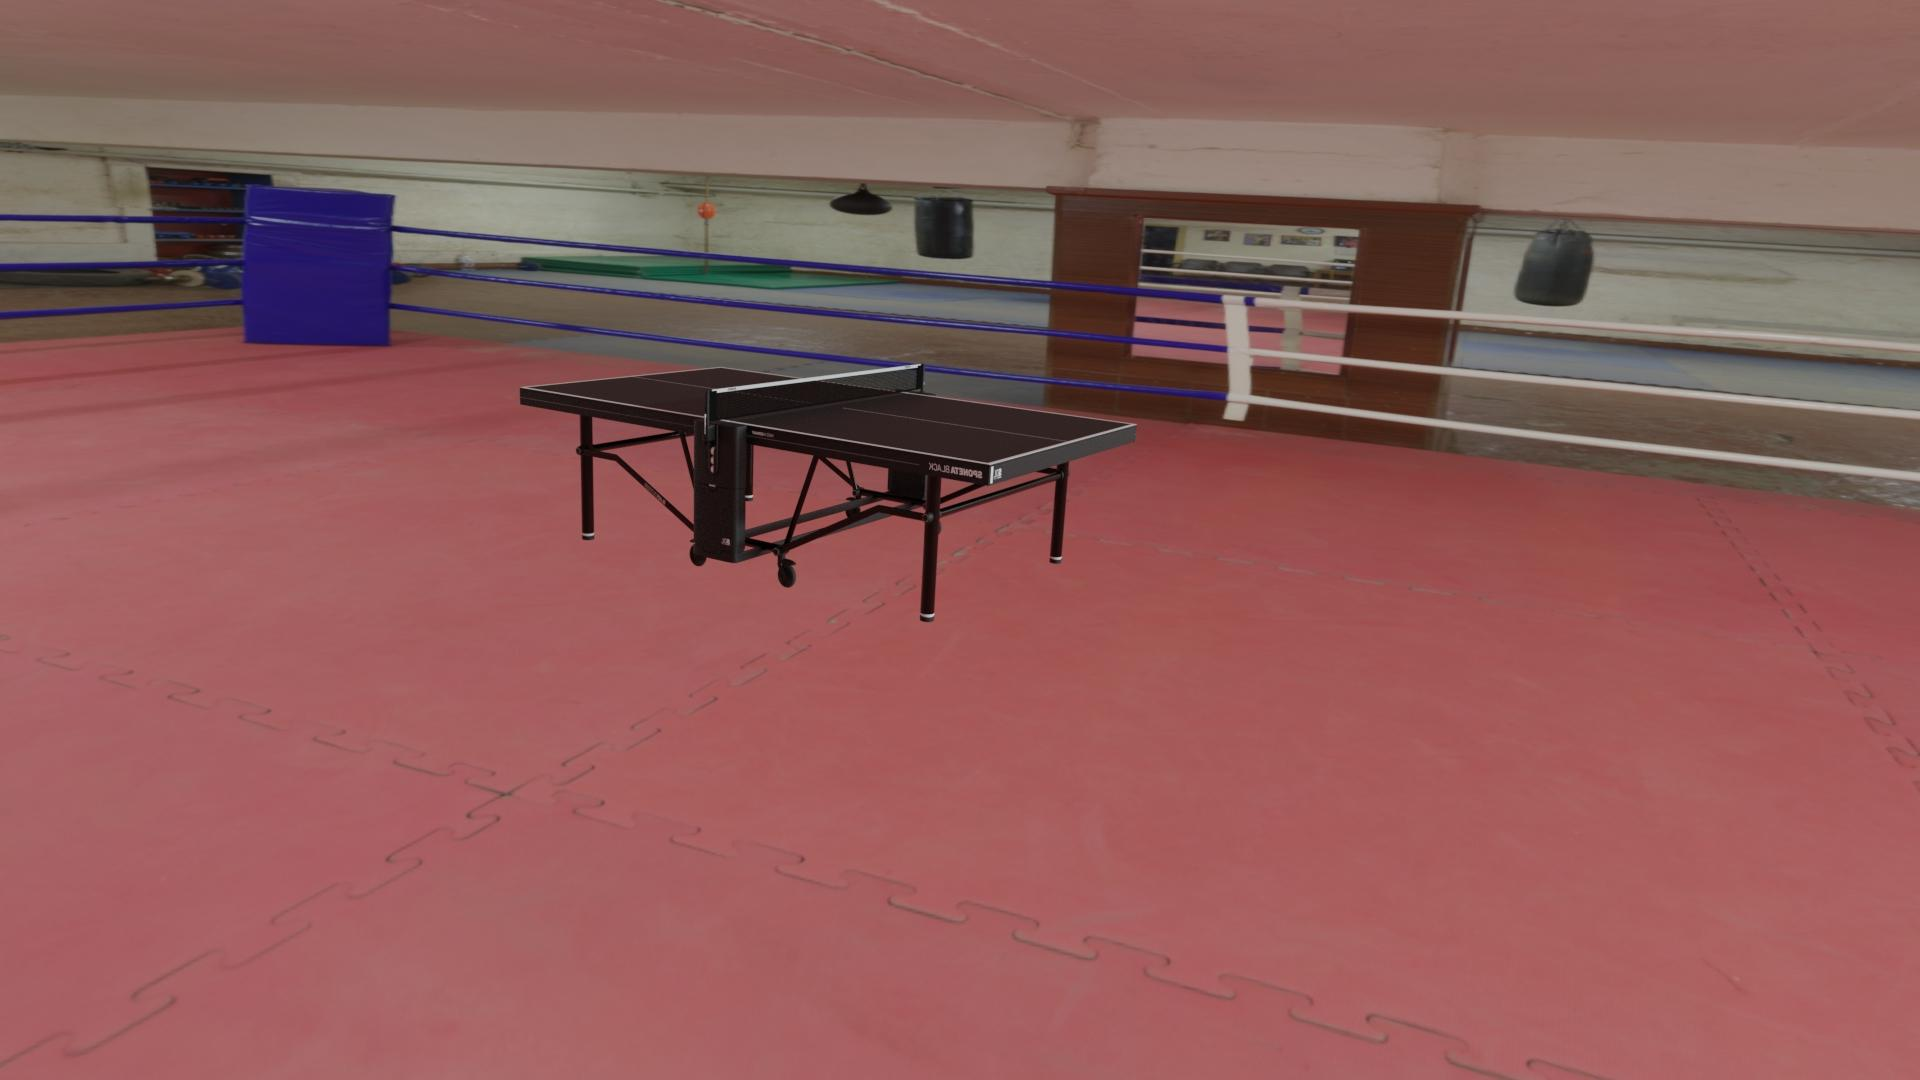table: (525, 368, 1131, 463)
